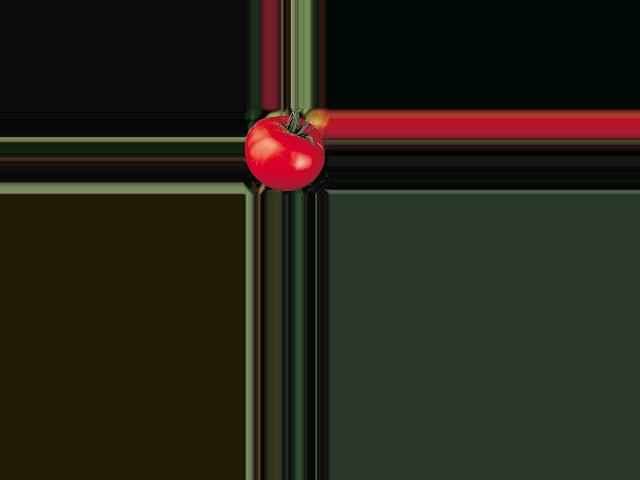tomato: (244, 116, 323, 191)
